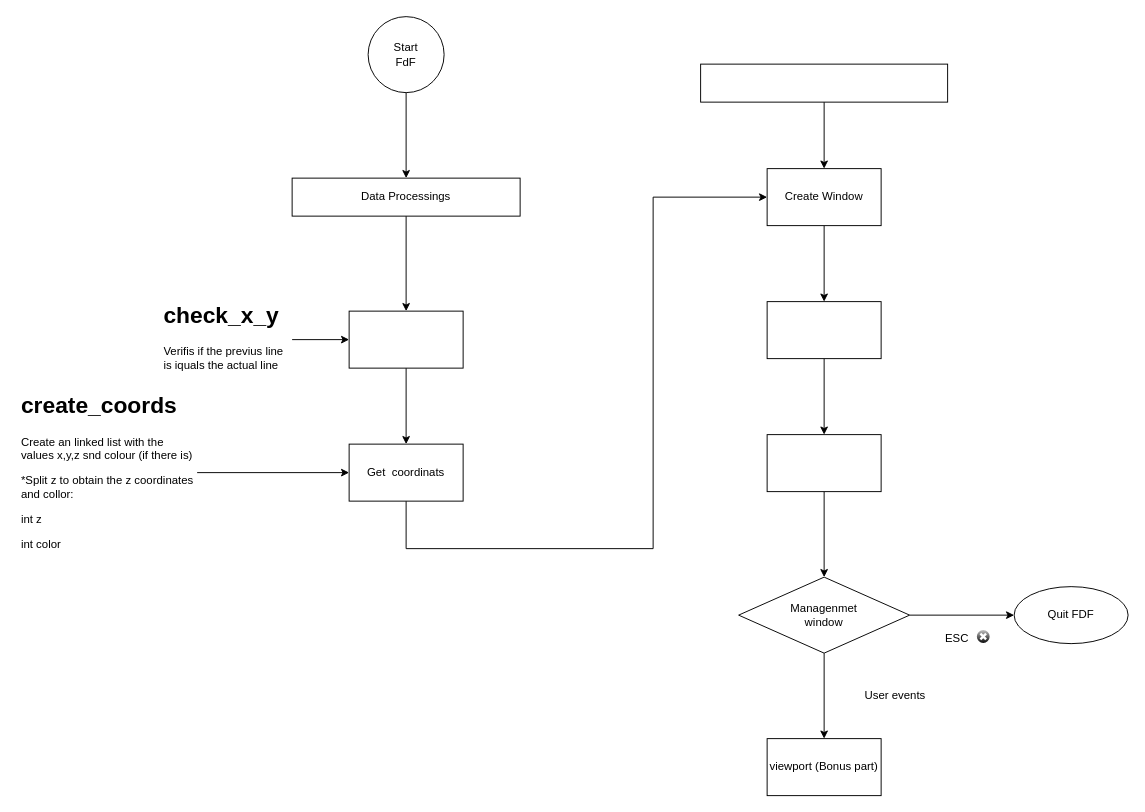
Image size: 1145x812. Some labels were removed from this diagram. Here are the shapes that lost their labels. From the top down, the centre of each, then its label:
the point at 824,82: Graphic managenment
the point at 405,339: Valid Map
the point at 823,330: Create lines
the point at 823,463: Display image
